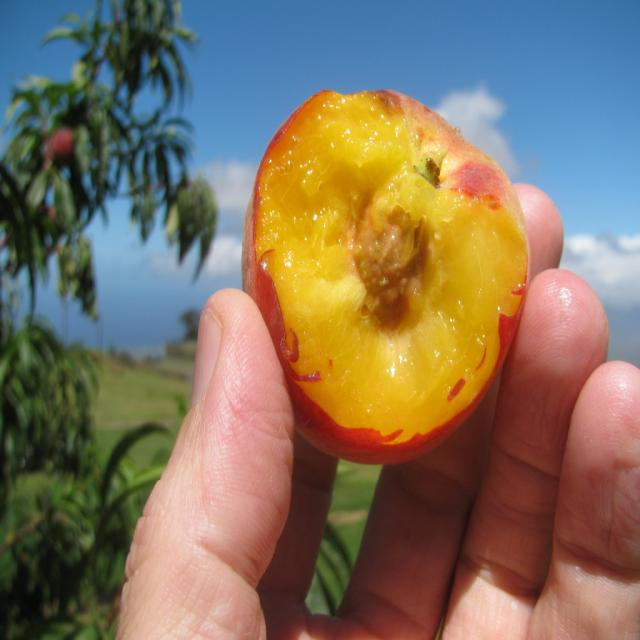Peach: (242, 86, 530, 468)
